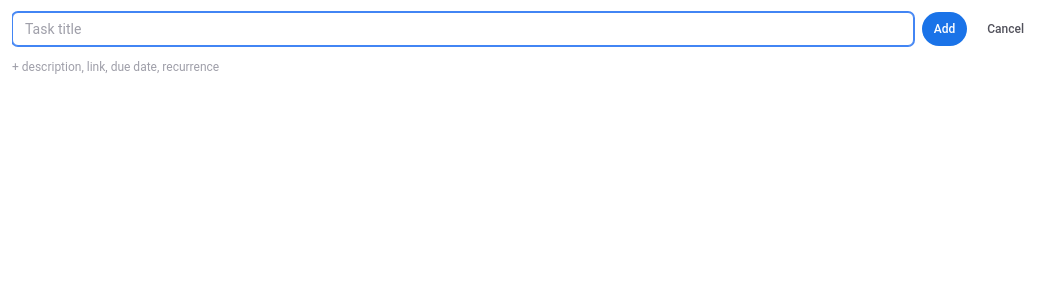
Test: InlineTaskForm › shows more fields when "+" button is clicked
Click the button "+ description, link, due date, recurrence".
click(116, 67)  # box [12,59,219,75]
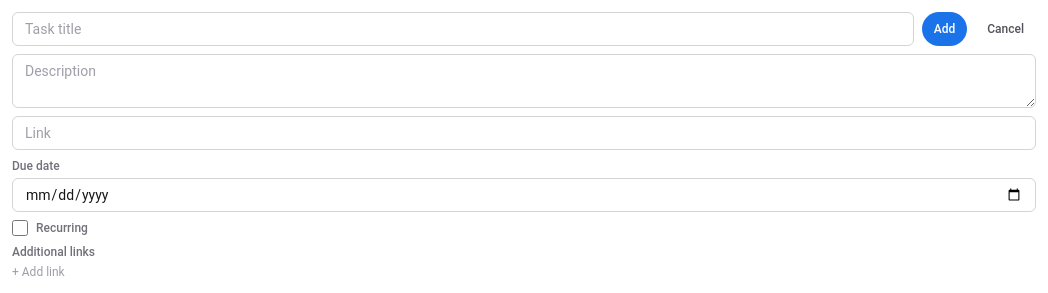
Now the text box with placeholder "Description" is shown, box [12,54,1036,108]
Now the field with placeholder "Link" is shown, box [12,116,1036,150]
Now the date field labelled "Due date" is shown, box [12,178,1036,212]
